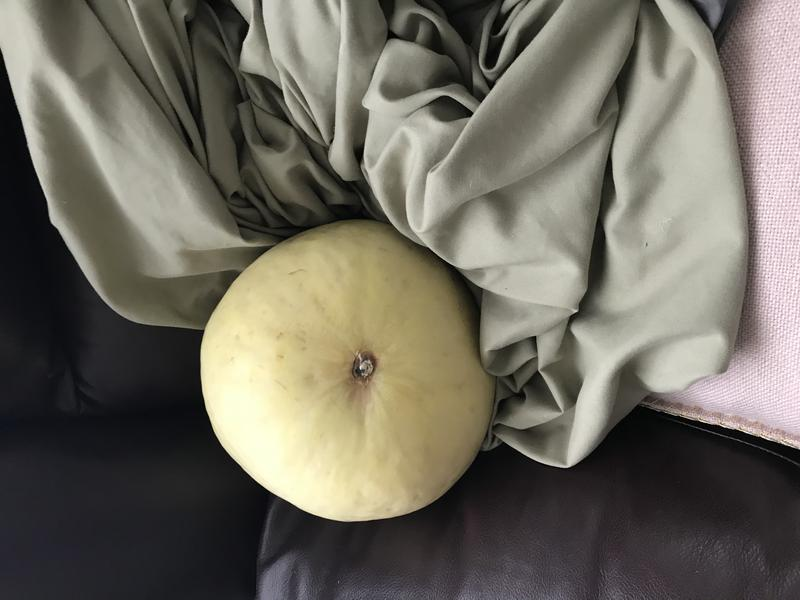honeydew: (186, 211, 514, 528)
